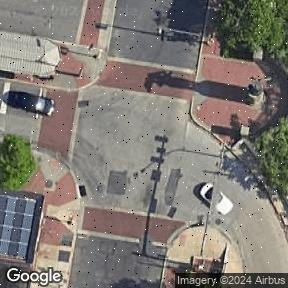vegetation: (252, 114, 288, 207), (0, 135, 36, 191)
